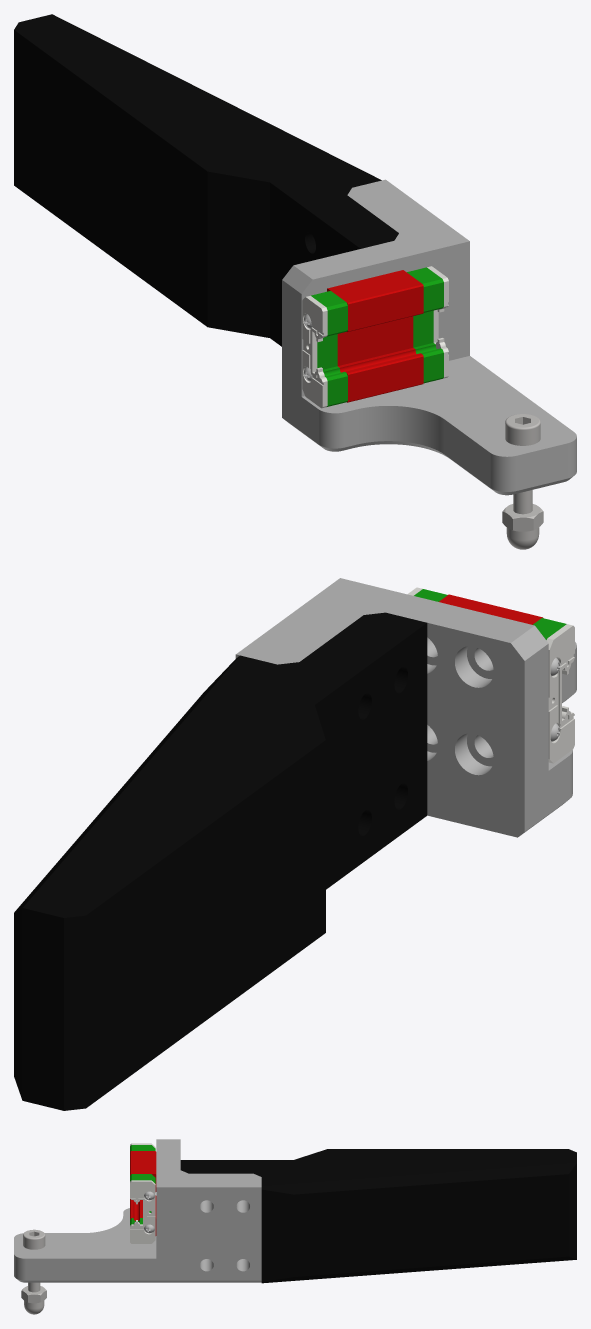
File: left_gripper.dae
3 views of the same model, one above another, from view 1: azimuth 30°, elevation 25°; view 2: azimuth 150°, elevation 25°; view 3: azimuth 270°, elevation 25° (orthographic). The views are drawn at different scales.
Parts seen in each view (by area): view 1: left_gripper; view 2: left_gripper; view 3: left_gripper.
Boxes of the visible parts, x1,y1,x2,y2 form: left_gripper: (14,14,576,549); left_gripper: (14,578,576,1110); left_gripper: (14,1139,576,1314).
Size of the model in its own units: 0.0304 by 0.1392 by 0.0382.
